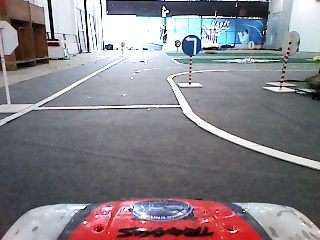turn_left: (181, 34, 202, 57)
